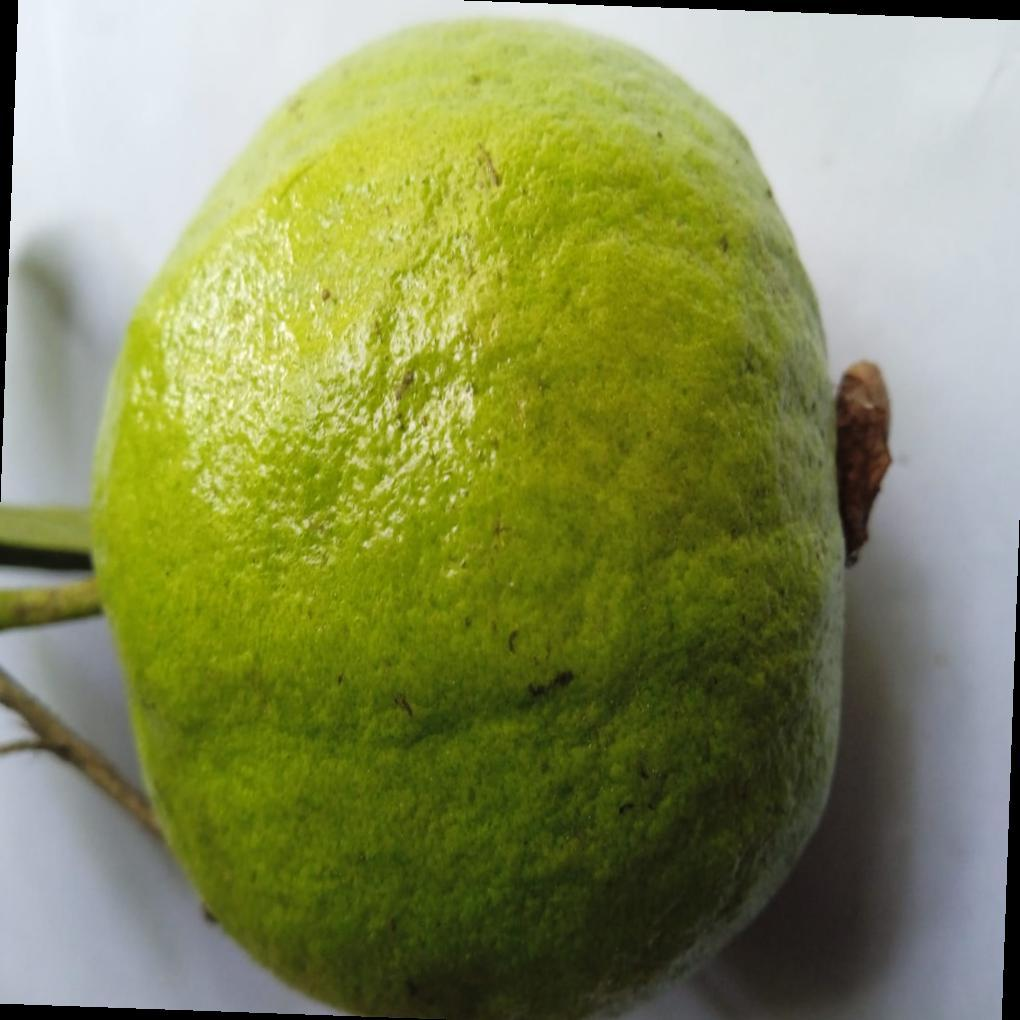FreshGuava: (87, 8, 865, 1020)
